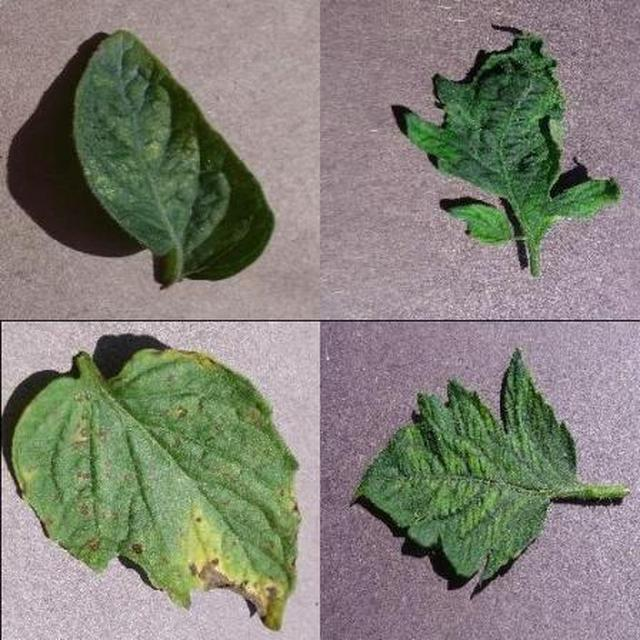Spider Mites Leaf: (218, 200, 640, 640)
